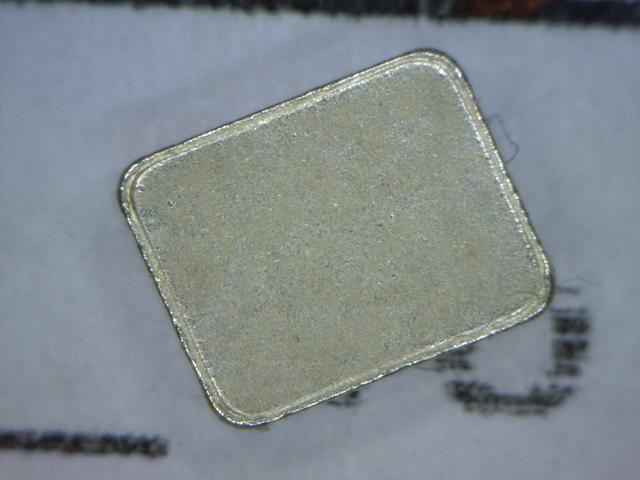nok: (104, 38, 575, 435)
